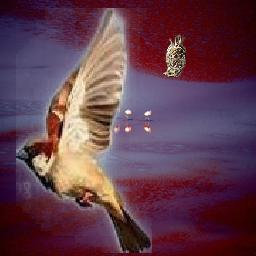Sparrow: (16, 9, 152, 254), (162, 35, 187, 78)
